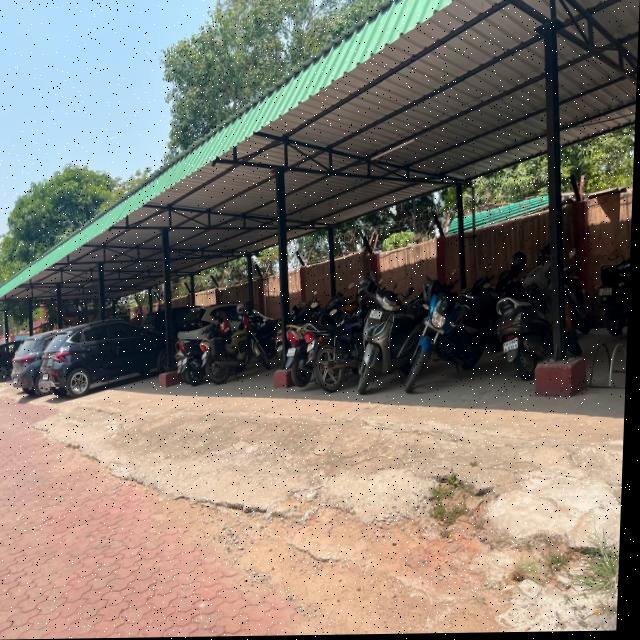bike: (409, 282, 493, 403), (498, 268, 576, 391), (359, 287, 420, 401), (202, 314, 277, 386), (300, 311, 361, 399), (596, 242, 633, 344), (287, 306, 314, 395), (179, 329, 214, 385)
car: (45, 315, 179, 398), (16, 325, 63, 401), (187, 302, 278, 339), (148, 306, 190, 334), (0, 339, 21, 387)
